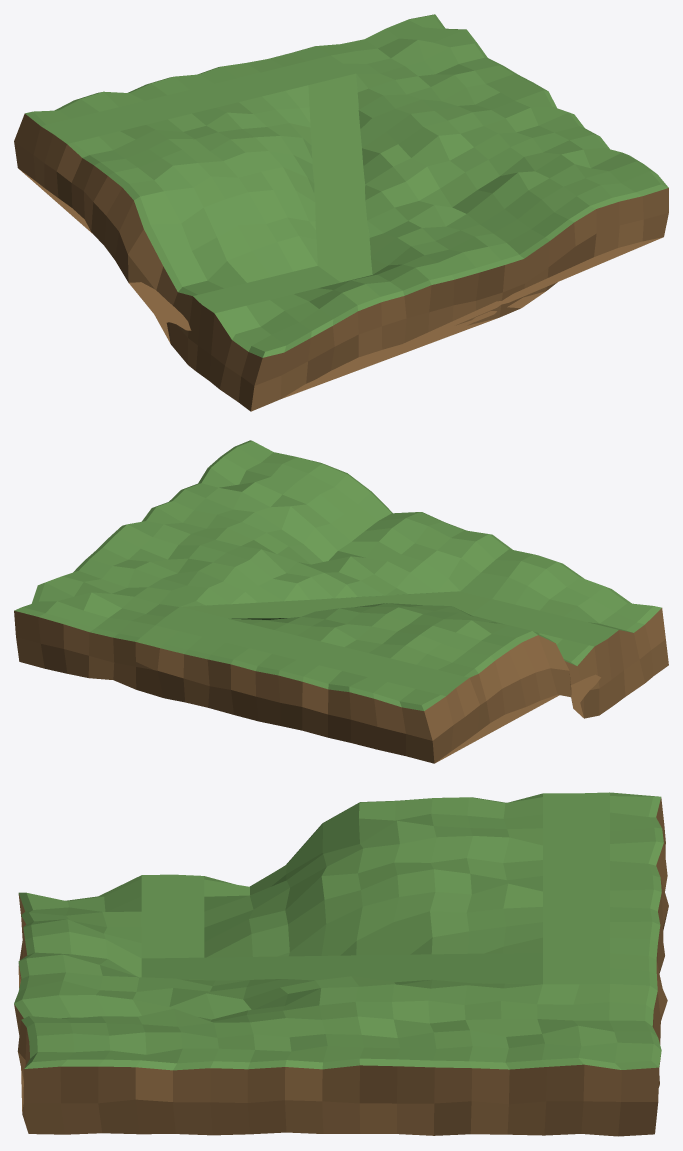
File: 색상수정.fbx
The picture shows the model from 3 angles, top to bottom: view 1: azimuth 30°, elevation 25°; view 2: azimuth 150°, elevation 25°; view 3: azimuth 270°, elevation 25°; orthographic projection. The views are drawn at different scales.
Parts seen in each view (by area): view 1: Island_B; view 2: Island_B; view 3: Island_B.
Part boxes in pixels (x1,y1,x2,y2): Island_B: (14, 14, 668, 411); Island_B: (14, 440, 668, 763); Island_B: (14, 792, 668, 1136).
Bounding box in the file's own units: 7746 × 8037 × 2368.
